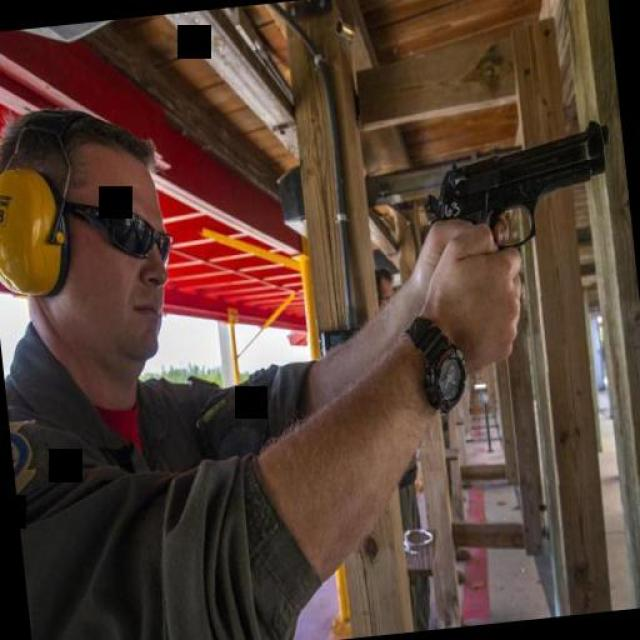gun: (409, 116, 619, 268)
